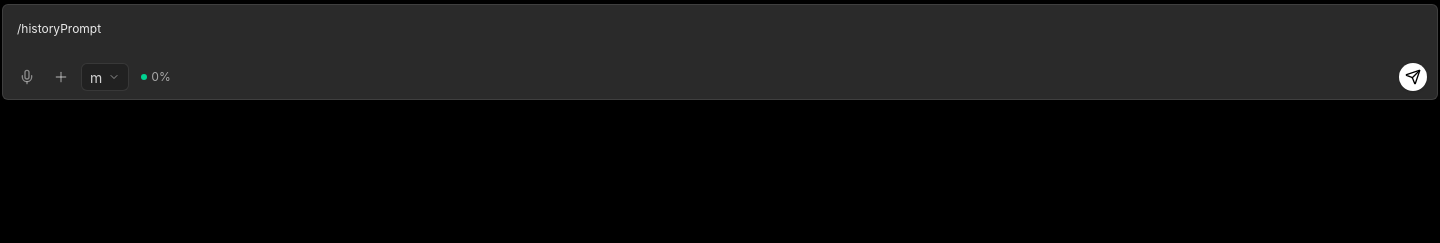
Scenario: AgentInput /historyPrompt 历史提示词面板 › 输入 /historyPrompt 打开二级面板并按新→旧展示历史
Focus the field with class "cm-content" at (59, 28), box [17,21,101,36]
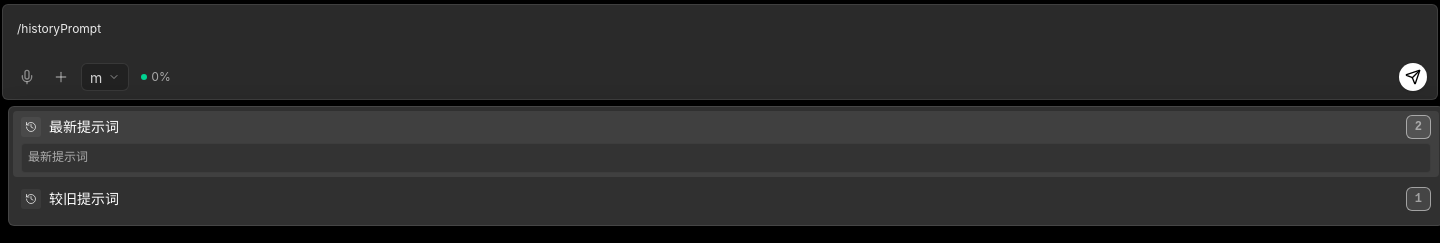
Expected: the number of options is 2, [13,111,1439,177]; [21,187,1431,211]
Expected: the option "最新提示词 2 最新提示词" is shown, [13,111,1439,177]
Expected: the option "较旧提示词 1" is shown, [21,187,1431,211]
